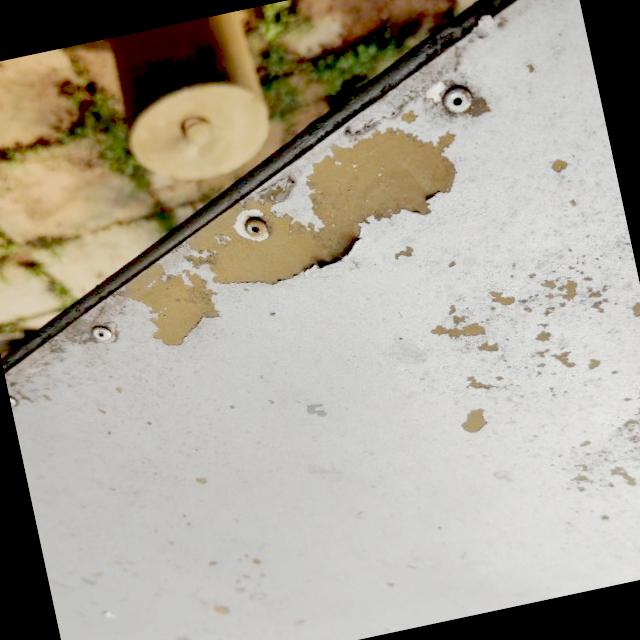paint-off: (78, 100, 494, 380)
